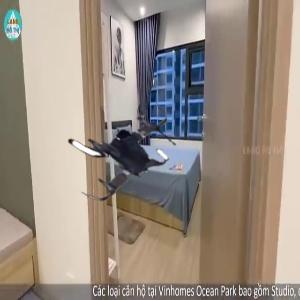drone: (56, 84, 181, 209)
